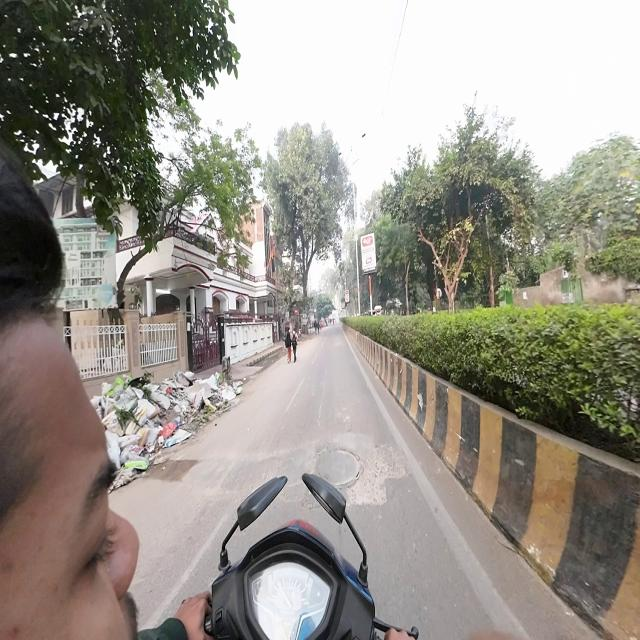Garbage: (114, 377, 168, 481), (168, 373, 229, 418), (170, 419, 194, 449)
